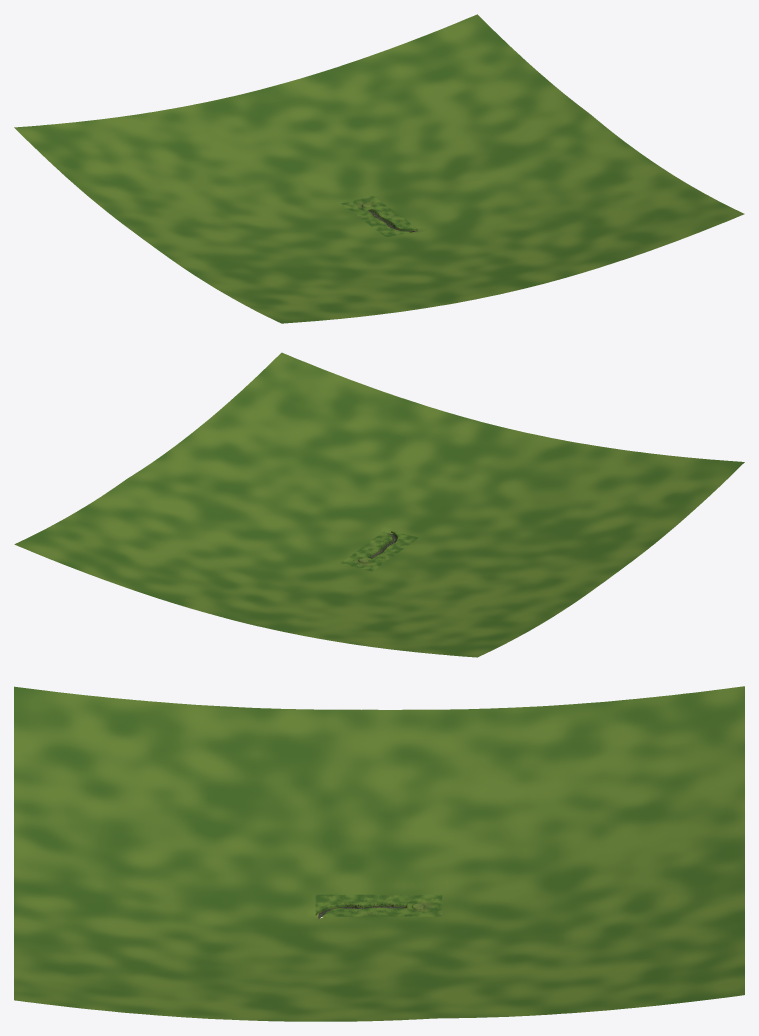
File: terrain.glb
The picture shows the model from 3 angles, top to bottom: view 1: azimuth 30°, elevation 25°; view 2: azimuth 150°, elevation 25°; view 3: azimuth 270°, elevation 25°; orthographic projection. The views are drawn at different scales.
Visible parts, largest first — view 1: terrain_far, terrain; view 2: terrain_far, terrain; view 3: terrain_far, terrain.
Part boxes in pixels (box(x1,y1,x2,y2)): terrain_far: box(14, 14, 744, 323); terrain: box(340, 196, 417, 237); terrain_far: box(14, 352, 744, 657); terrain: box(341, 531, 418, 571); terrain_far: box(14, 686, 744, 1021); terrain: box(315, 894, 442, 918).
Bounding box in the file's own units: 960 × 99.31 × 960.
